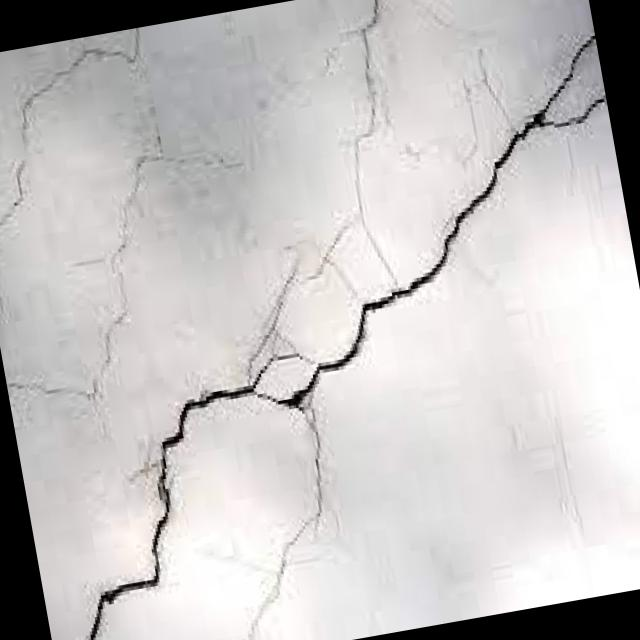crack: (0, 32, 640, 640), (0, 103, 197, 413), (253, 0, 423, 297), (0, 28, 167, 268)
